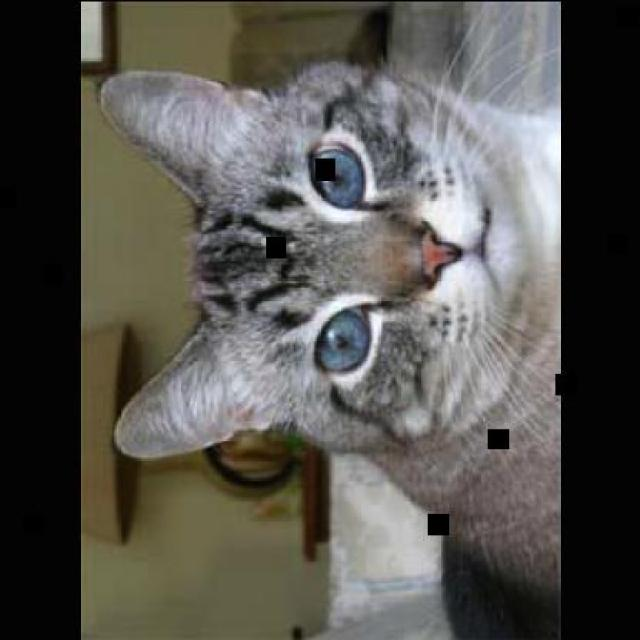unauthorized: (95, 0, 559, 638)
